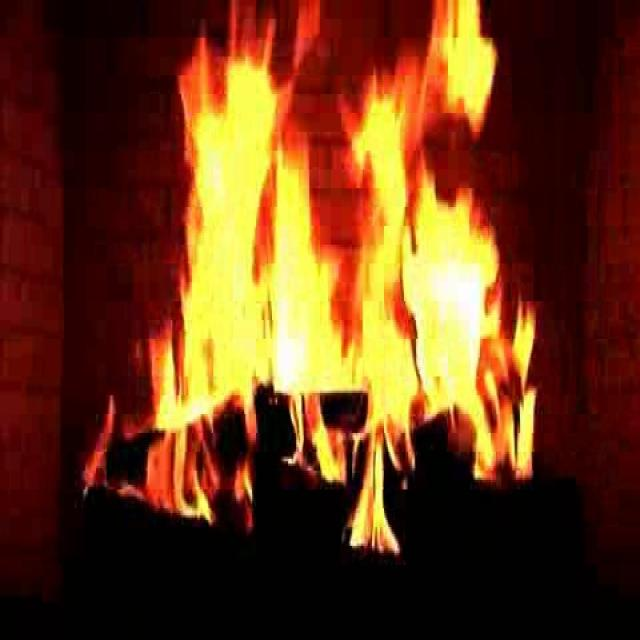fire: (141, 28, 531, 528)
